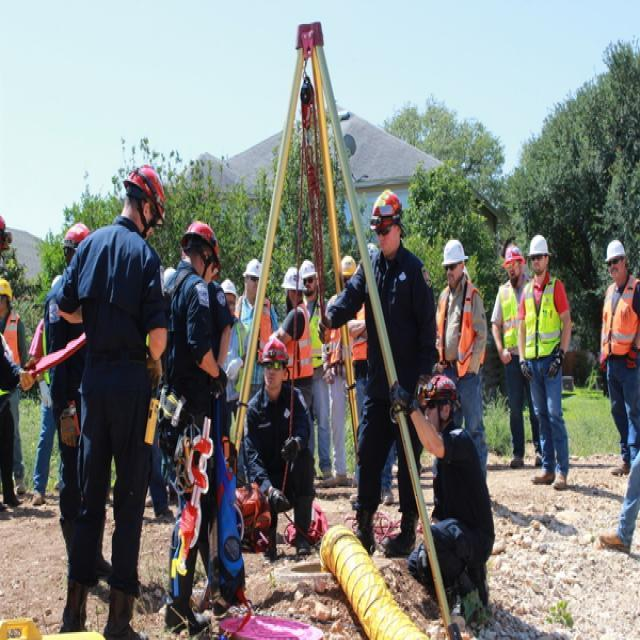reflective_jacket: (493, 281, 539, 399), (436, 279, 485, 375), (272, 289, 315, 382), (240, 295, 283, 385), (521, 275, 564, 360), (601, 275, 639, 360), (321, 293, 354, 376), (293, 297, 324, 372), (0, 310, 25, 393)
safety_helmet: (180, 207, 234, 285), (56, 203, 99, 264), (120, 158, 168, 211), (412, 371, 462, 409), (366, 183, 406, 230), (439, 233, 469, 268), (340, 249, 363, 285), (280, 260, 304, 294), (219, 272, 240, 310), (159, 256, 181, 291), (296, 254, 321, 284), (602, 235, 627, 264), (241, 251, 265, 281), (526, 230, 551, 257), (501, 241, 525, 267), (0, 276, 13, 299)
